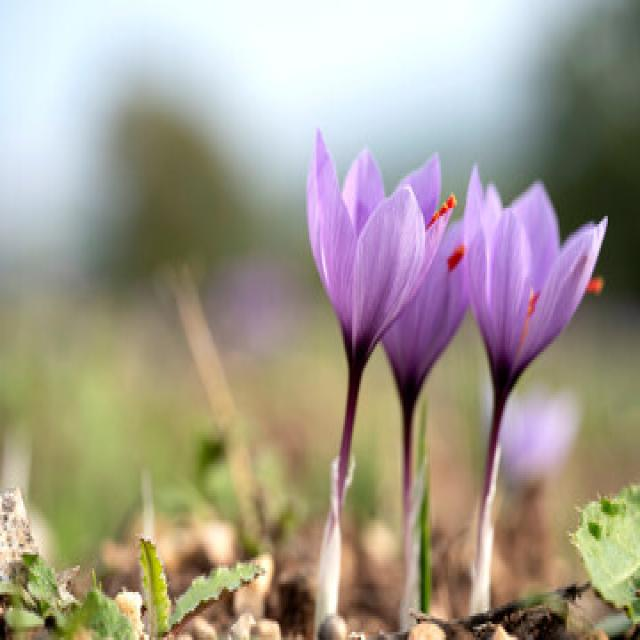saffron open: (309, 131, 455, 630), (466, 167, 608, 613), (382, 224, 469, 532)
